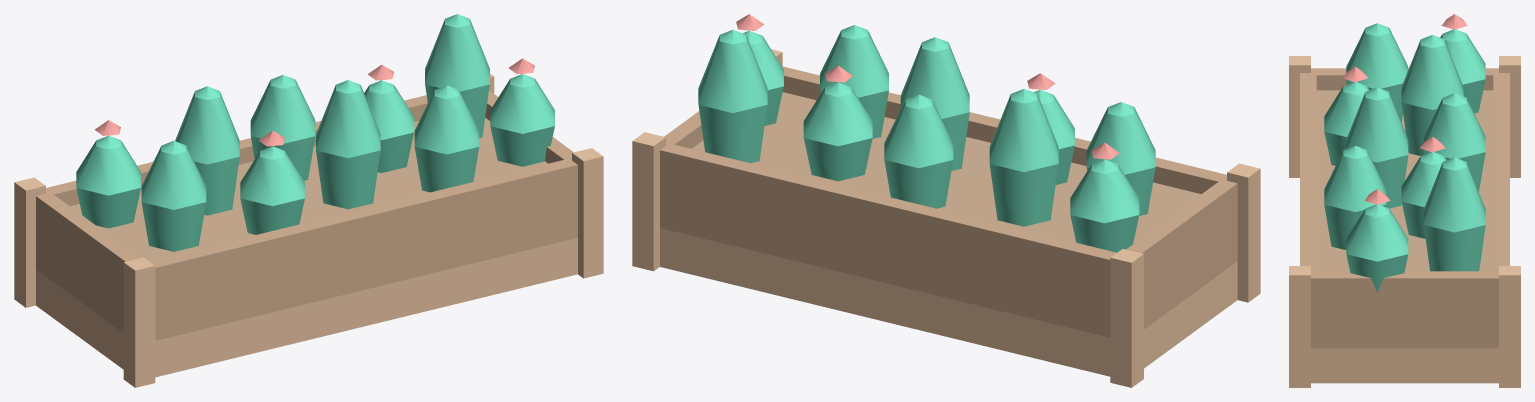
File: gardenBed.glb
The picture shows the model from 3 angles, left to right: view 1: azimuth 30°, elevation 25°; view 2: azimuth 150°, elevation 25°; view 3: azimuth 270°, elevation 25°; orthographic projection. The views are drawn at different scales.
Visible parts, largest first — view 1: gardenBed; view 2: gardenBed; view 3: gardenBed.
Part boxes in pixels (bbox=[...]): gardenBed: bbox=[14, 14, 603, 387]; gardenBed: bbox=[632, 14, 1260, 387]; gardenBed: bbox=[1289, 14, 1520, 387].
Size of the model in its own units: 0.94 by 0.405 by 0.42.
